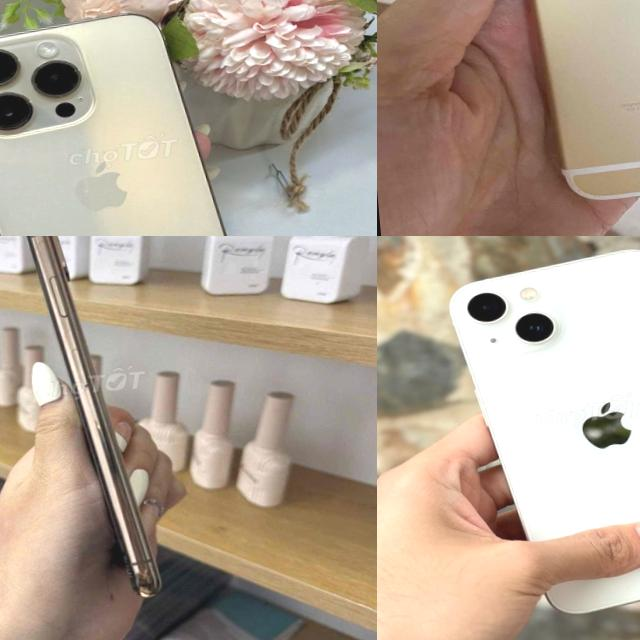gen_12_13: (446, 236, 640, 625)
gen_14: (0, 0, 263, 236)
gen_6: (476, 0, 640, 221)
gen_x_xs: (25, 236, 160, 596)
scratch: (125, 558, 172, 592)
